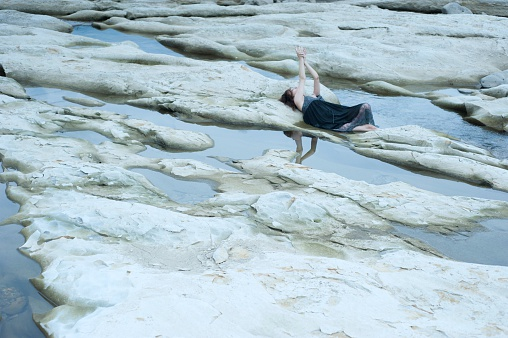deitado: (270, 65, 387, 133)
